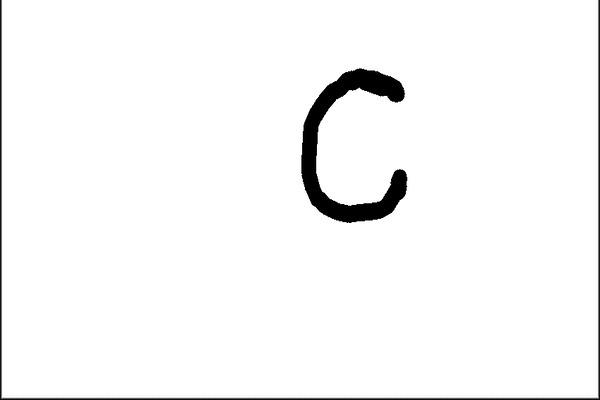C: (293, 59, 418, 225)
